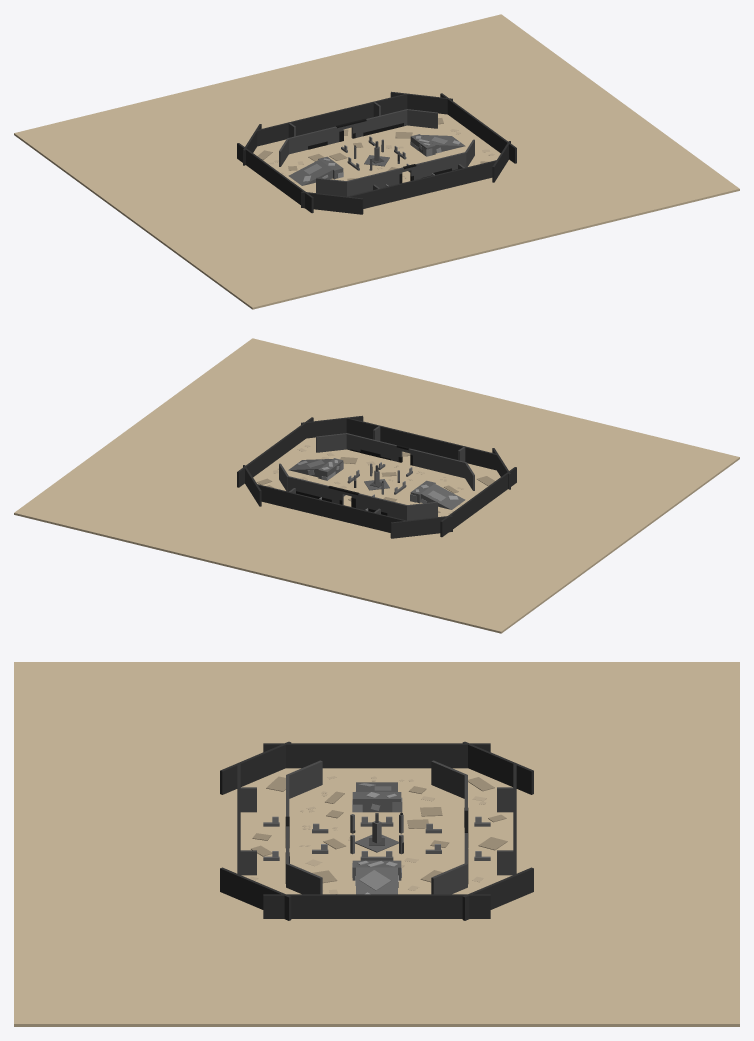
Rendered from main_scene.fbx.
3 renders of one model, top to bottom at view 1: azimuth 30°, elevation 25°; view 2: azimuth 150°, elevation 25°; view 3: azimuth 270°, elevation 25°, orthographic. The views are drawn at different scales.
Parts seen in each view (by area): view 1: Floor, OuterWall.005, OuterWall, OuterWall.006, OuterWall.007, OuterWall.003, Wall, Wall.007, Wall.001, Wall.006, OuterWall.002, Ramp.002 (+2 smaller); view 2: Floor, OuterWall, OuterWall.005, OuterWall.006, OuterWall.007, OuterWall.001, Wall, Wall.001, Wall.007, Wall.006, OuterWall.004, Ramp.002 (+2 smaller); view 3: Floor, OuterWall.007, OuterWall.006, OuterWall.003, OuterWall.001, OuterWall.002, OuterWall.004, Wall.005, Wall.003, Wall.002, Wall.004, Ramp.001 (+1 smaller).
Part boxes in pixels (box(x1,y1,x2,y2)): Floor: box(14, 14, 739, 309); OuterWall.005: box(347, 160, 497, 208); OuterWall: box(256, 93, 407, 146); OuterWall.006: box(237, 143, 313, 213); OuterWall.007: box(440, 93, 516, 163); OuterWall.003: box(301, 191, 363, 214); Wall: box(346, 168, 402, 196); Wall.007: box(288, 126, 343, 154); Wall.001: box(410, 152, 466, 179); Wall.006: box(351, 109, 407, 138); OuterWall.002: box(390, 91, 452, 114); Ramp.002: box(288, 159, 332, 185); Floor: box(14, 338, 739, 633); OuterWall: box(256, 484, 406, 532); OuterWall.005: box(346, 417, 497, 470); OuterWall.006: box(440, 467, 516, 537); OuterWall.007: box(237, 417, 313, 487); OuterWall.001: box(390, 515, 452, 538); Wall: box(410, 449, 465, 478); Wall.001: box(346, 433, 402, 461); Wall.007: box(351, 493, 407, 520); Wall.006: box(287, 476, 343, 504); OuterWall.004: box(301, 415, 363, 438); Ramp.002: box(421, 483, 465, 509); Floor: box(14, 662, 739, 1026); OuterWall.007: box(263, 894, 490, 918); OuterWall.006: box(263, 743, 490, 768); OuterWall.003: box(220, 741, 291, 794); OuterWall.001: box(462, 741, 533, 794); OuterWall.002: box(462, 867, 533, 920); OuterWall.004: box(220, 867, 291, 920); Wall.005: box(431, 760, 467, 798); Wall.003: box(286, 760, 322, 798); Wall.002: box(286, 863, 322, 894); Wall.004: box(431, 863, 467, 894); Ramp.001: box(356, 867, 397, 894).
Size of the model in its own units: 52775 by 4000 by 44742.
